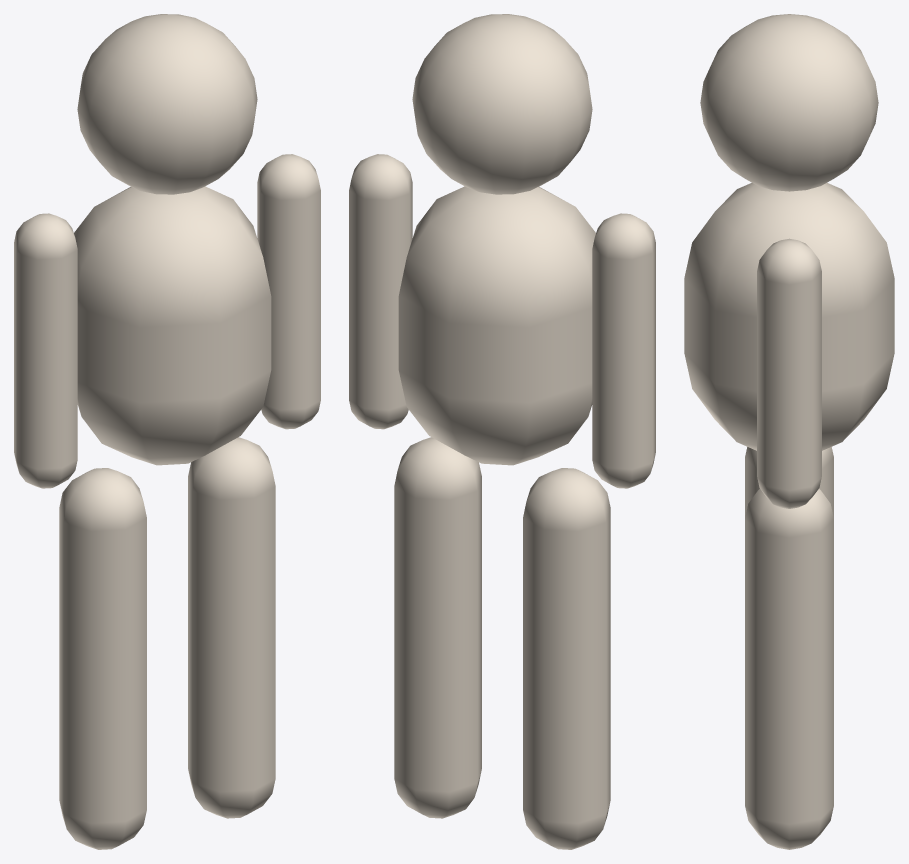
The model's file is kids.glb.
3 renders of one model, left to right at view 1: azimuth 30°, elevation 25°; view 2: azimuth 150°, elevation 25°; view 3: azimuth 270°, elevation 25°, orthographic.
Visible parts, largest first — view 1: Torso, LeftLeg, RightLeg, Head, LeftArm, RightArm; view 2: Torso, LeftLeg, RightLeg, Head, LeftArm, RightArm; view 3: Torso, RightLeg, Head, RightArm, LeftLeg.
Part boxes in pixels (x1,y1,x2,y2): Torso: (74, 186, 271, 465); LeftLeg: (59, 468, 146, 849); RightLeg: (188, 437, 275, 818); Head: (77, 14, 257, 194); LeftArm: (14, 213, 77, 488); RightArm: (257, 154, 320, 429); Torso: (398, 186, 595, 465); LeftLeg: (523, 468, 610, 849); RightLeg: (394, 437, 481, 818); Head: (412, 14, 592, 194); LeftArm: (592, 213, 655, 488); RightArm: (349, 154, 412, 429); Torso: (684, 183, 894, 450); RightLeg: (745, 489, 833, 849); Head: (700, 14, 878, 191); RightArm: (757, 238, 821, 508); LeftLeg: (745, 447, 833, 517).
Bounding box in the file's own units: 0.42 × 1.08 × 0.26.
